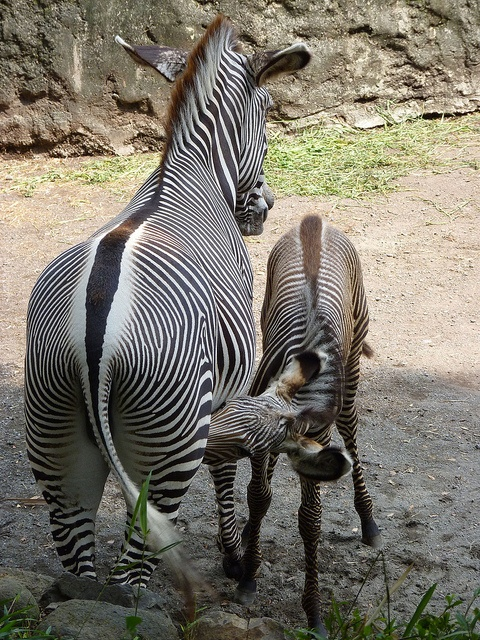zebra: (25, 11, 310, 589), (202, 216, 379, 640)
